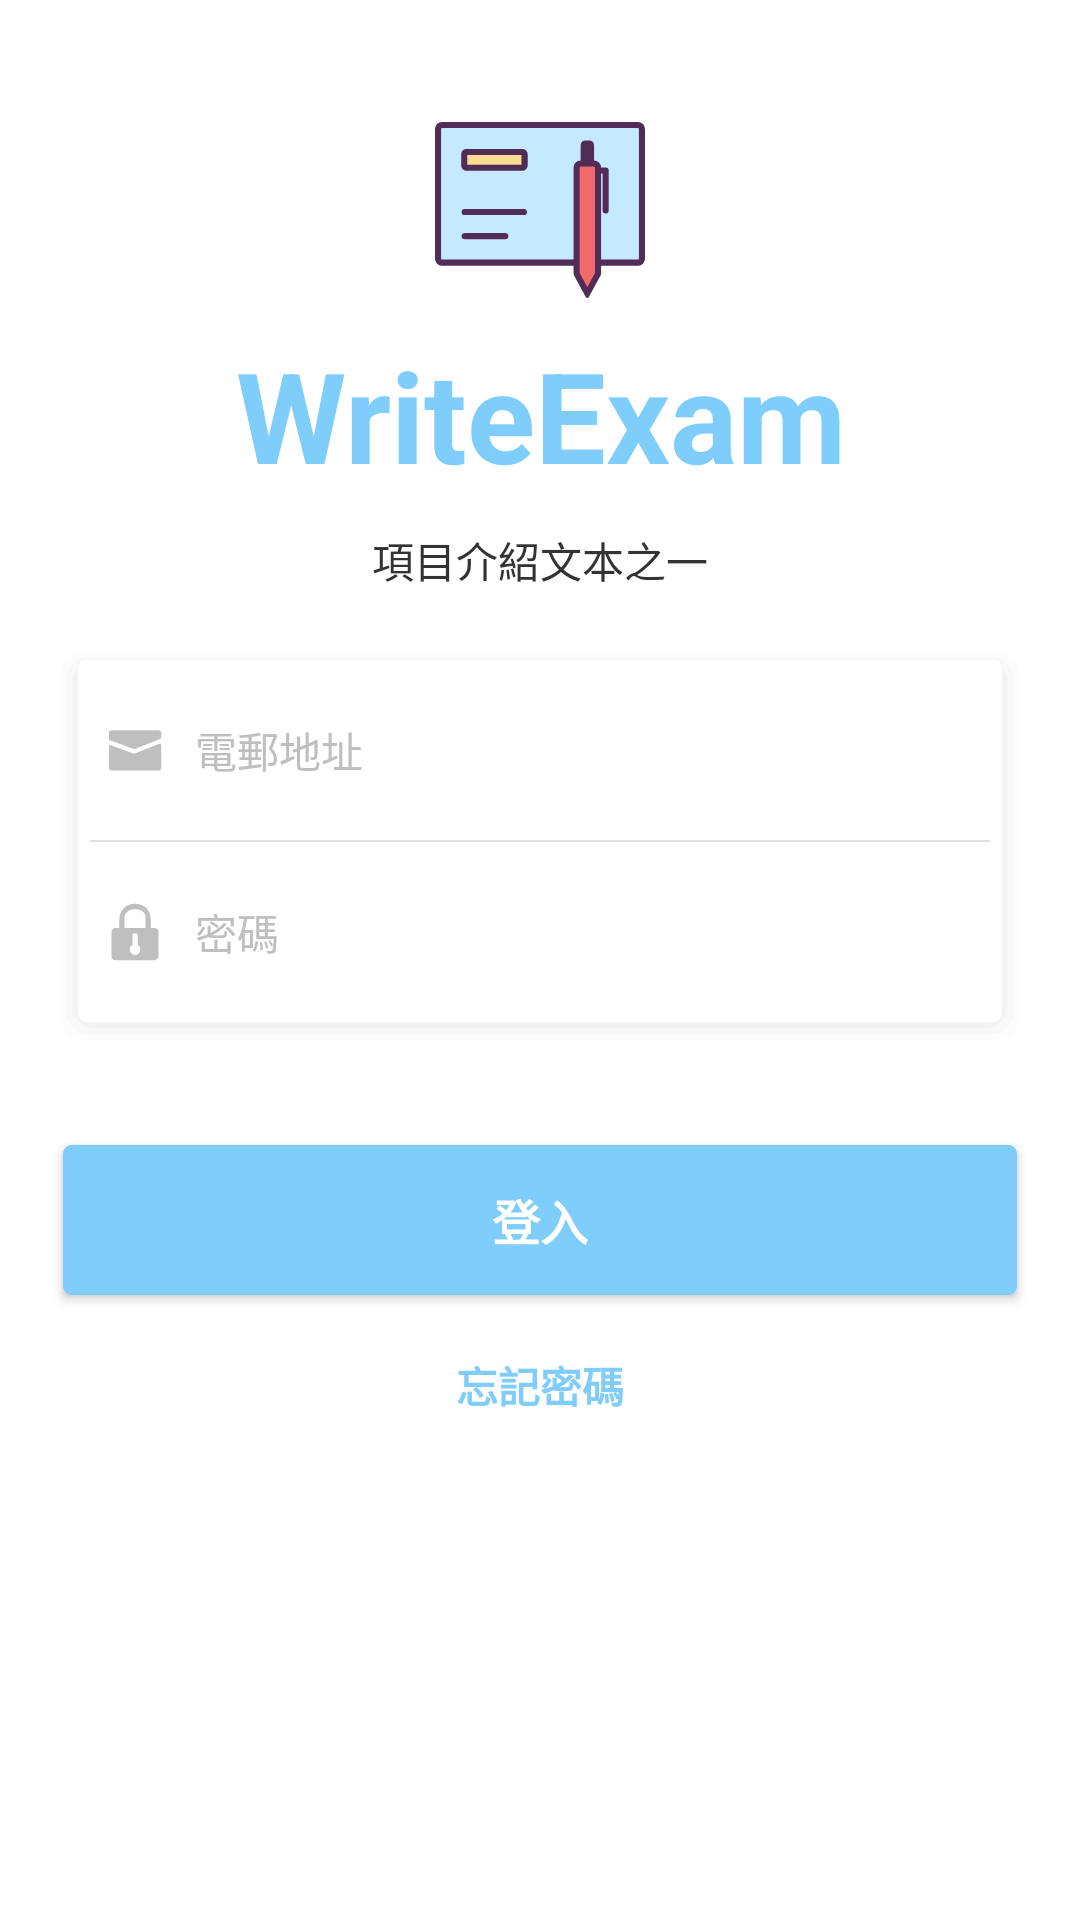

Icon click points for this 1080×1920 phone screenshot, format [x,y]:
email bfgray: [135,750]
password bfgray: [135,932]
